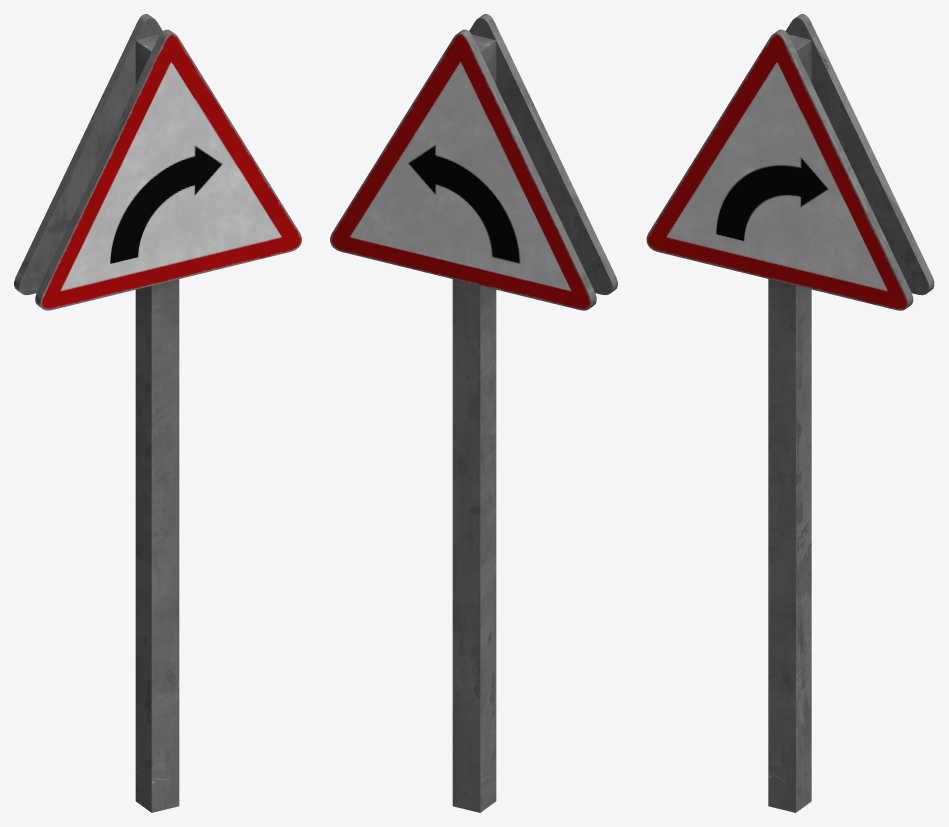
Rendered from TrafficSignTriangle (1).fbx.
The picture shows the model from 3 angles, left to right: view 1: azimuth 30°, elevation 25°; view 2: azimuth 150°, elevation 25°; view 3: azimuth 330°, elevation 25°; orthographic projection.
Parts seen in each view (by area): view 1: TrafficSignTriangle; view 2: TrafficSignTriangle; view 3: TrafficSignTriangle.
Part boxes in pixels (box(x1,y1,x2,y2)): TrafficSignTriangle: box(14, 14, 301, 812); TrafficSignTriangle: box(330, 14, 617, 812); TrafficSignTriangle: box(646, 14, 934, 812).
Size of the model in its own units: 87.58 by 250 by 15.38.
